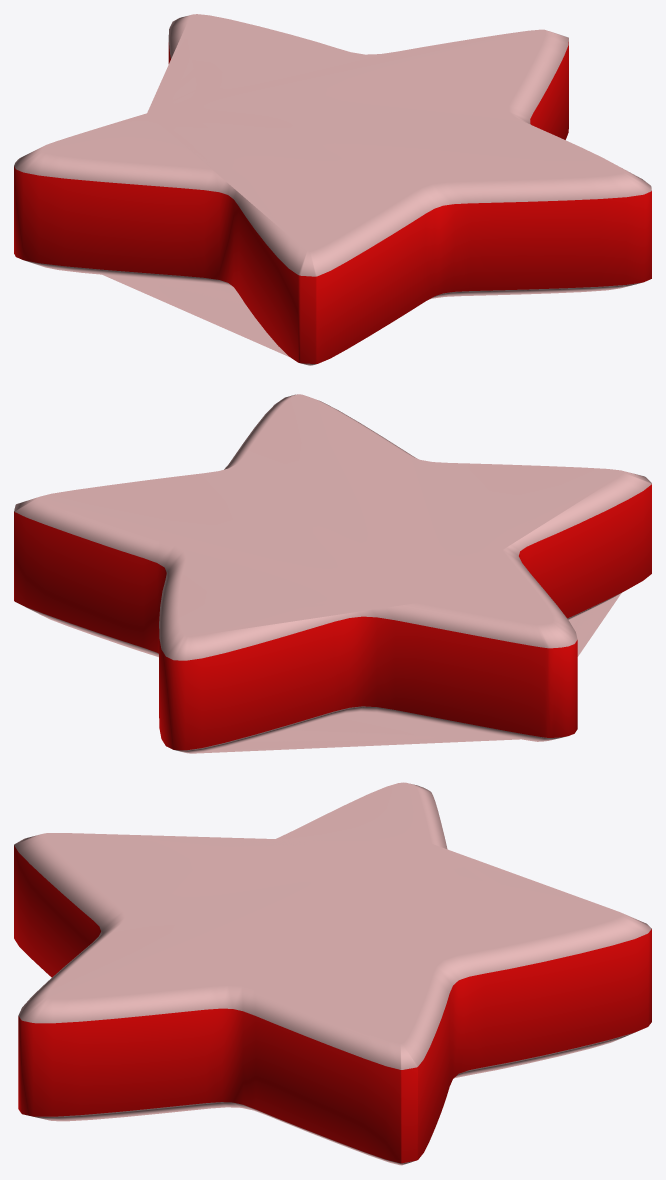
Rendered from fruit_star.fbx.
3 renders of one model, top to bottom at view 1: azimuth 30°, elevation 25°; view 2: azimuth 150°, elevation 25°; view 3: azimuth 270°, elevation 25°, orthographic. The views are drawn at different scales.
Visible parts, largest first — view 1: fruit_star; view 2: fruit_star; view 3: fruit_star.
Boxes of the visible parts, <box> form: fruit_star: <box>14,14,651,365</box>; fruit_star: <box>14,394,651,753</box>; fruit_star: <box>14,782,651,1165</box>.
Size of the model in its own units: 5.39 by 1.07 by 5.08.
